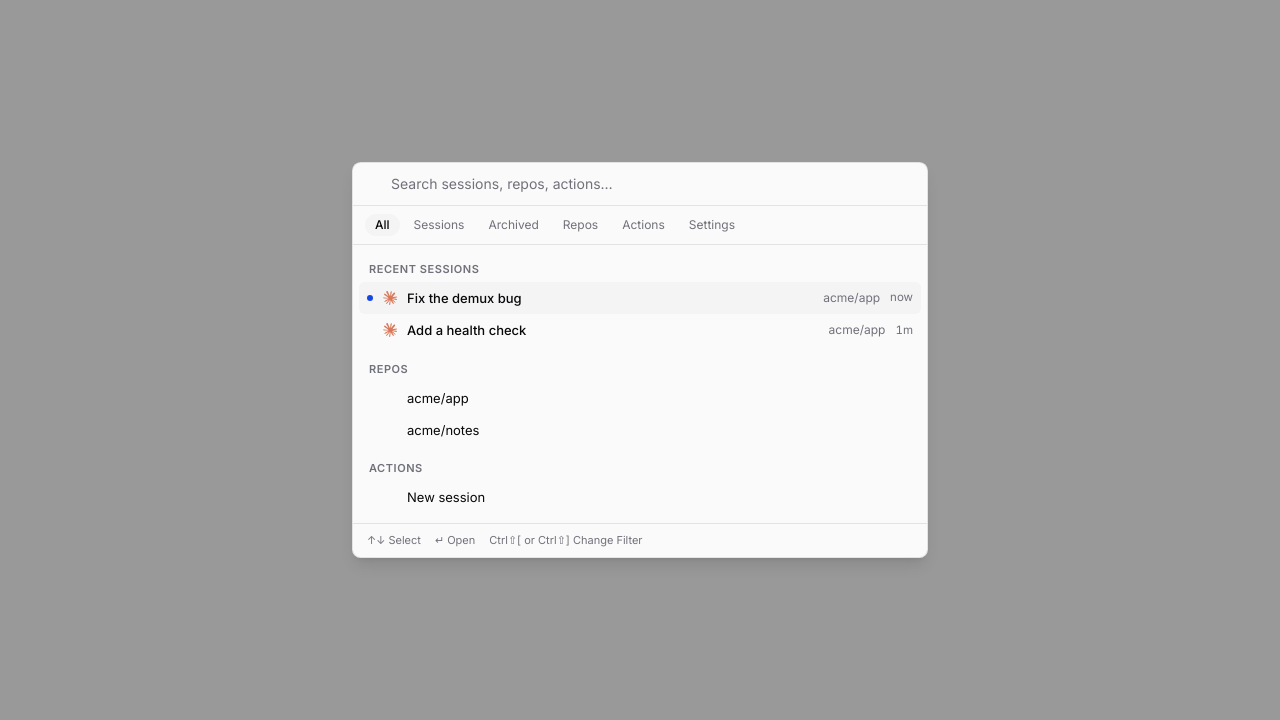
Test: SearchPalette › restricts results to the selected filter tab
Click the tab "Repos": (580, 225) [553,214,608,236]
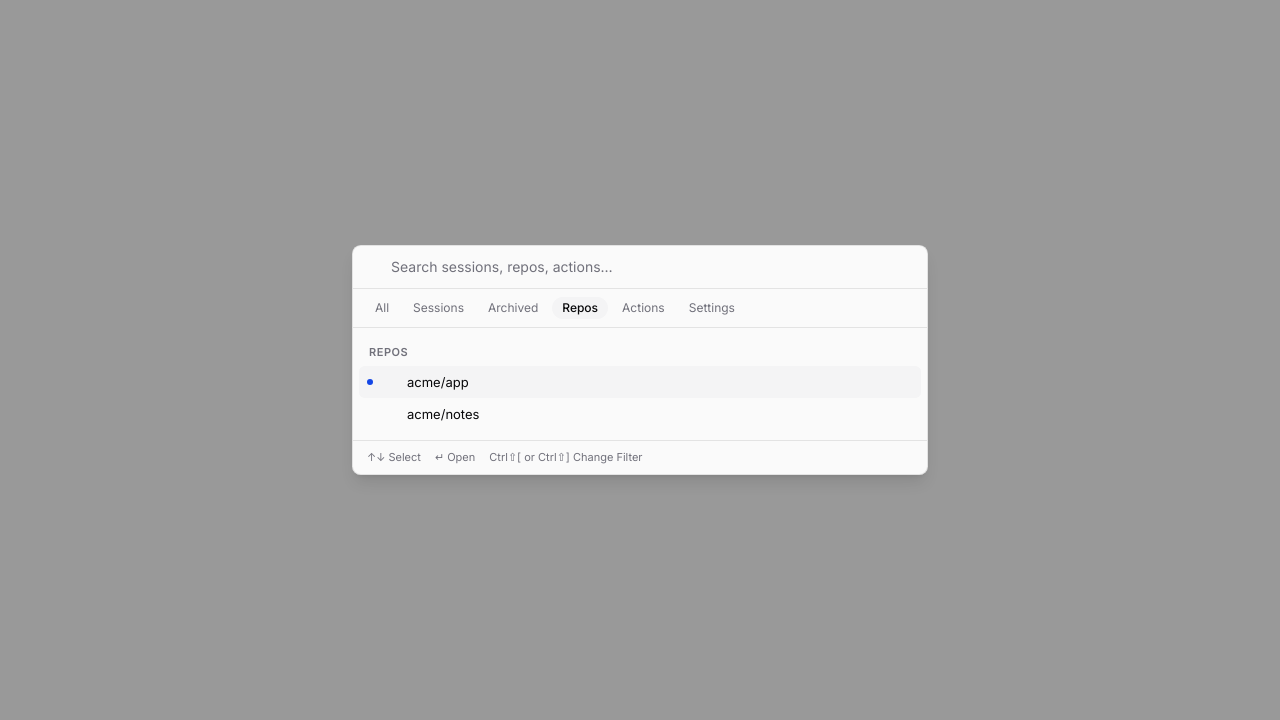
Check: the option "acme/app" is shown, box [359,366,921,398]
Check: the option "Fix the demux bug" is gone
